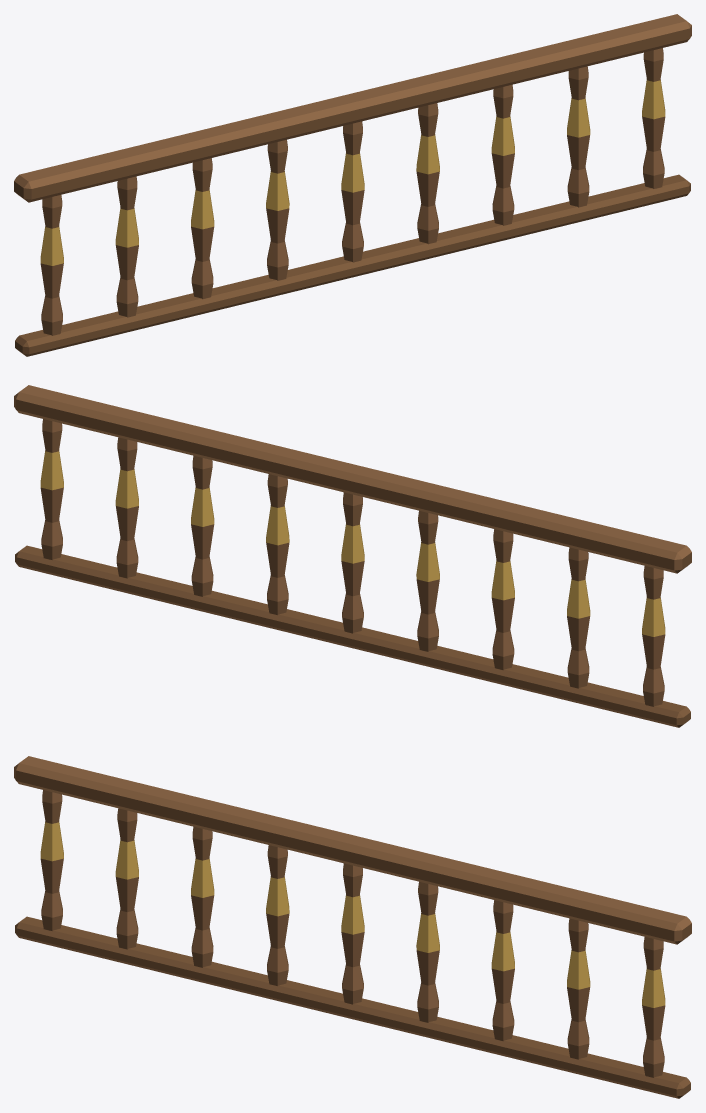
Rendered from BridgeRail.obj.
3 views of the same model, one above another, from view 1: azimuth 30°, elevation 25°; view 2: azimuth 150°, elevation 25°; view 3: azimuth 330°, elevation 25° (orthographic).
Bounding box in the file's own units: 8 × 2.01 × 0.32.
